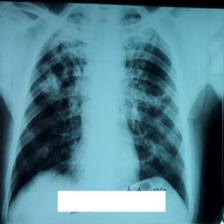tuberculosis: (2, 3, 200, 224)
